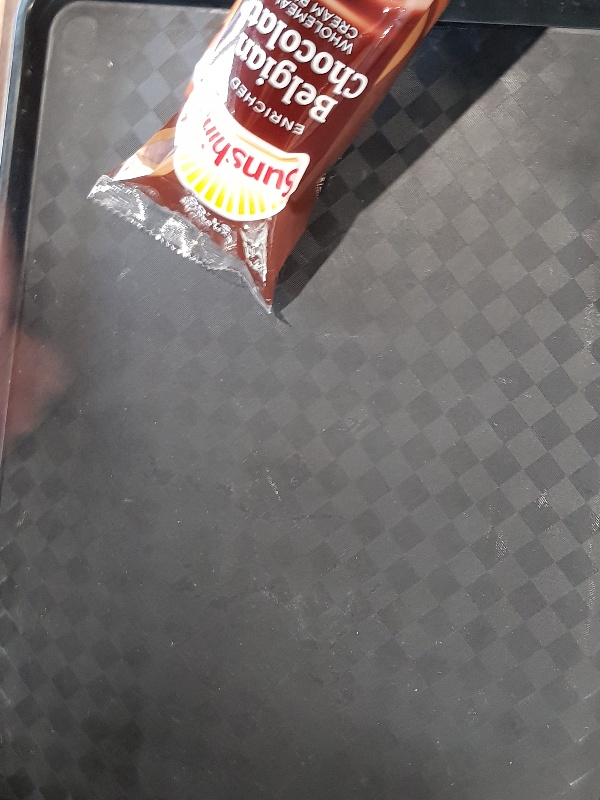Sunshine Belgium Chocolate Wholemeal Cream Bun: (86, 1, 451, 313)
